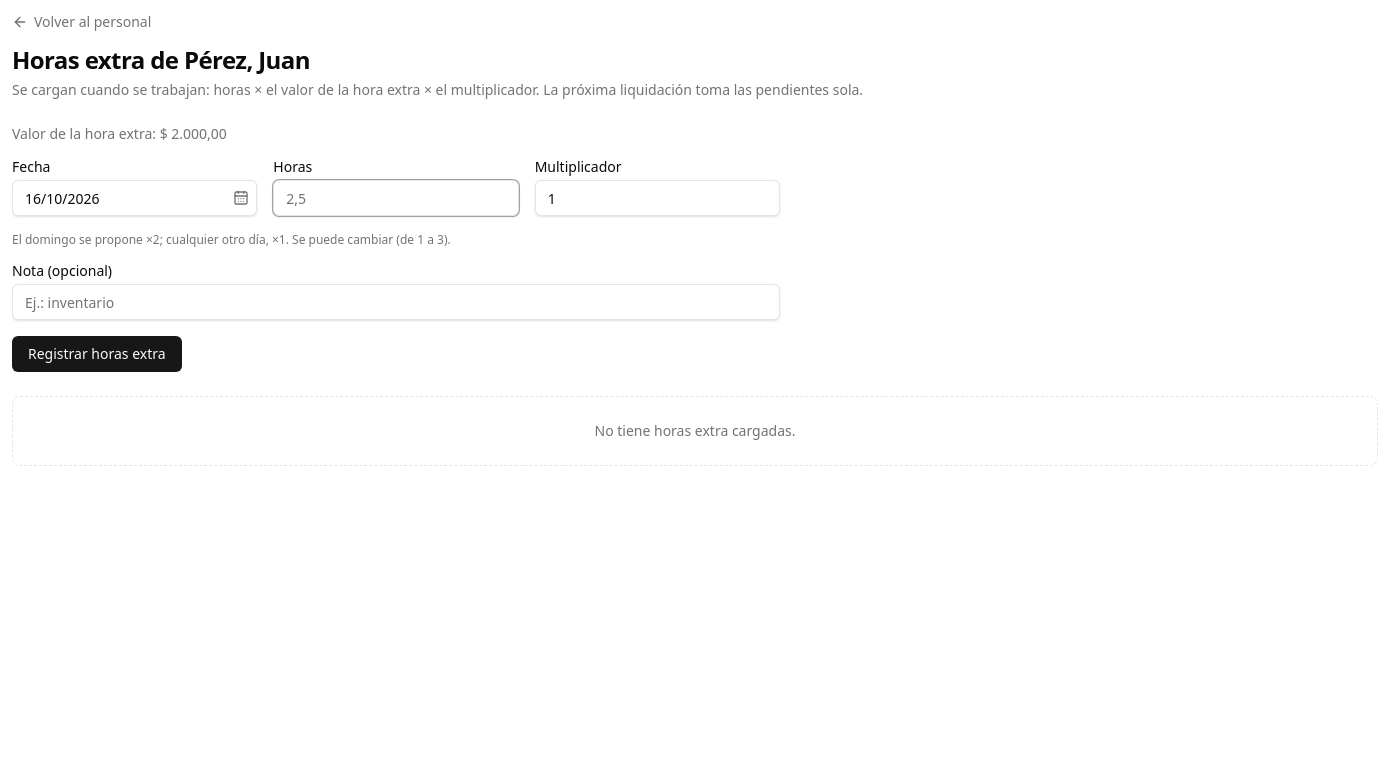
Test: EmployeeOvertimePage › refuses a day after today: overtime is recorded once worked
Check: the text "No tiene horas extra cargadas." is shown, box top-left (12, 396), bottom-right (1377, 466)
Replace the text in the field labelled "Fecha" with "2099-01-01" at {"x": 135, "y": 198}, box top-left (12, 180), bottom-right (257, 216)
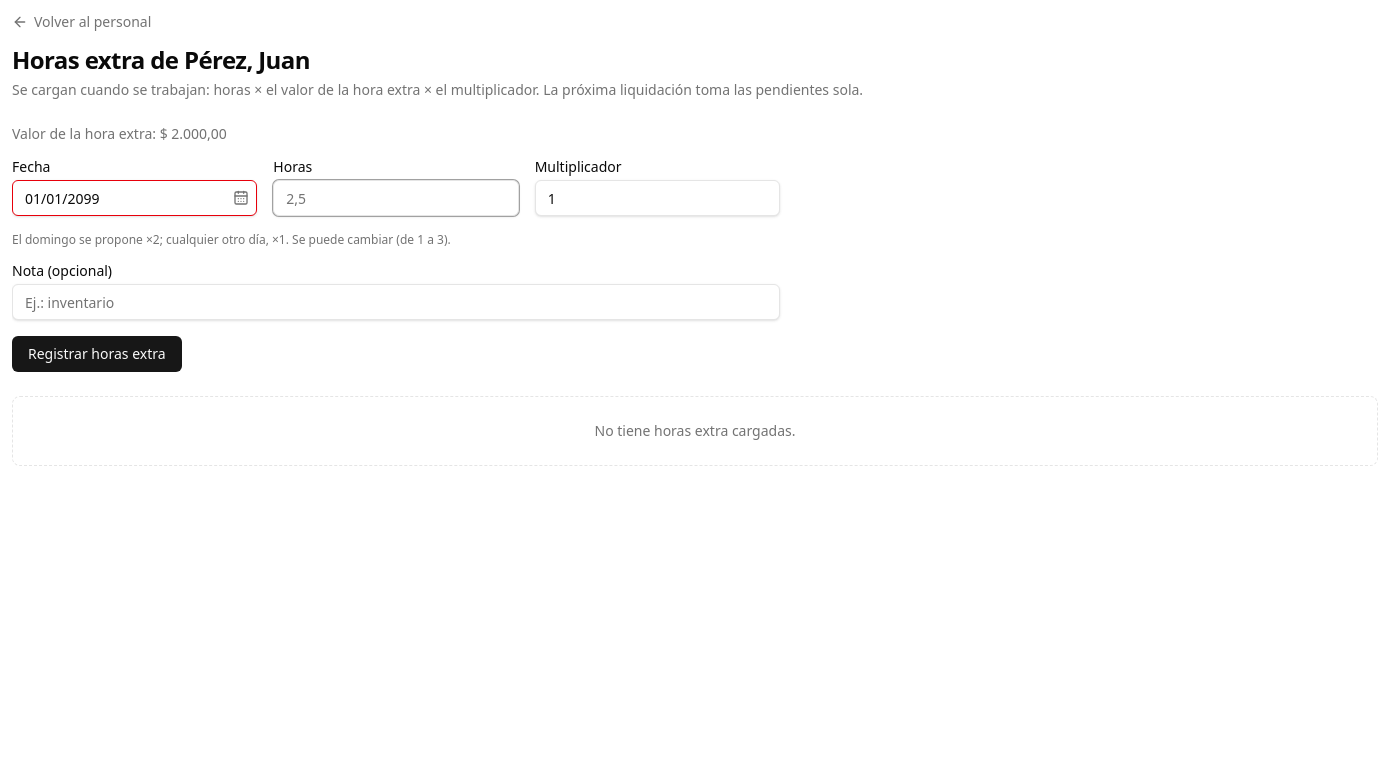
Type "2" into the field labelled "Horas".
click(396, 198); type("2")  # box top-left (273, 180), bottom-right (519, 216)
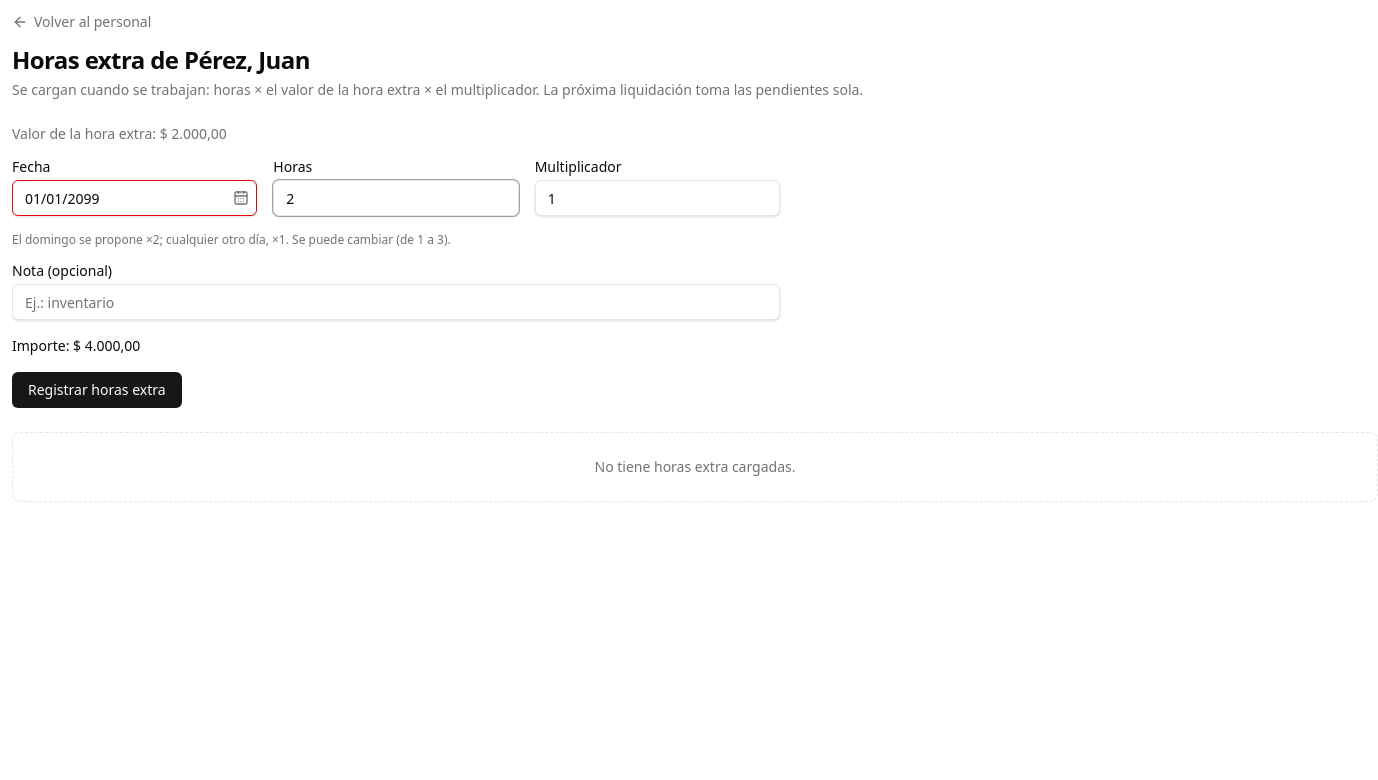
Click the button "Registrar horas extra".
click(97, 390)  # box top-left (12, 372), bottom-right (182, 408)
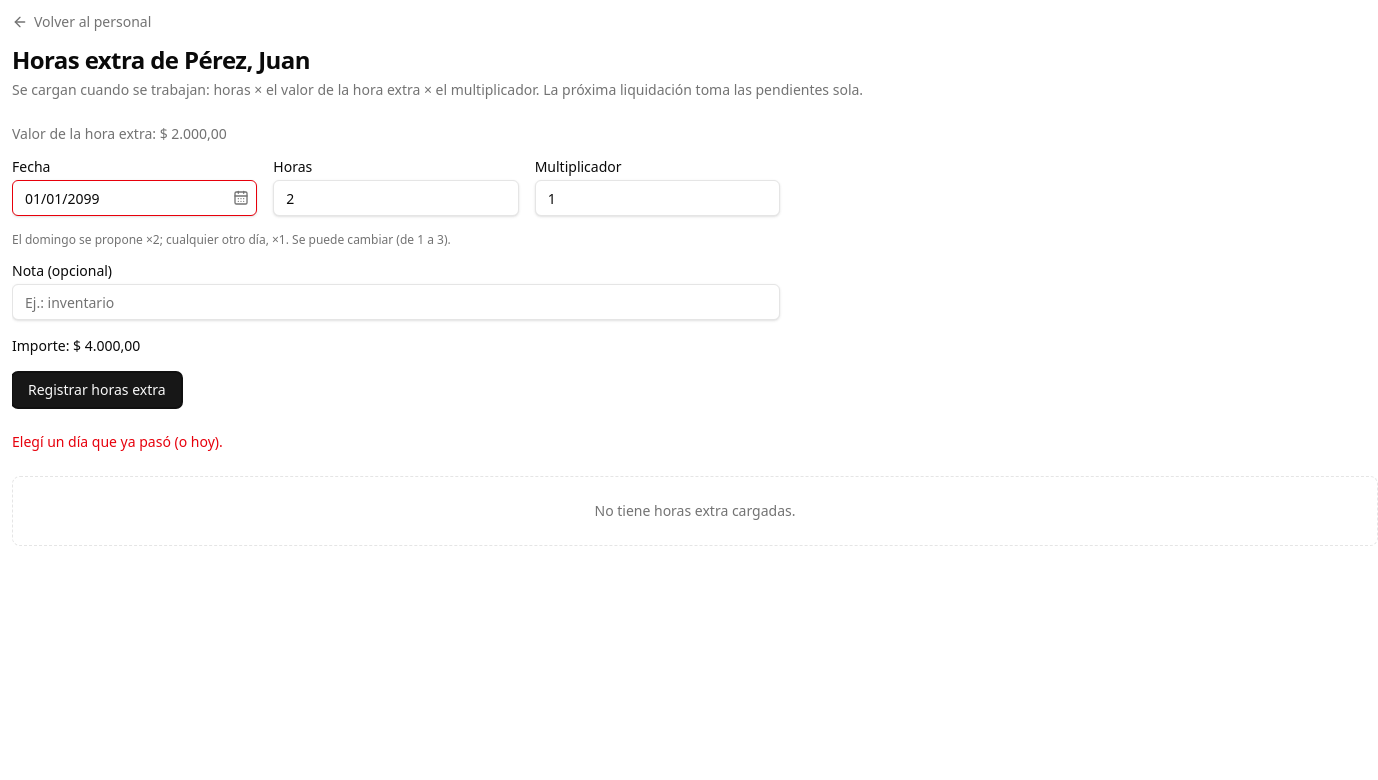
Check: the message reads "Elegí un día que ya pasó (o hoy).", box top-left (12, 432), bottom-right (223, 451)
